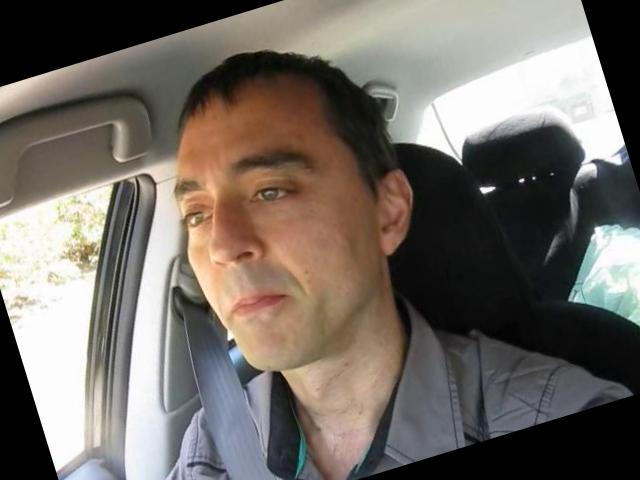eye_open: (240, 170, 304, 219), (178, 198, 216, 232)
face: (152, 110, 400, 390)
